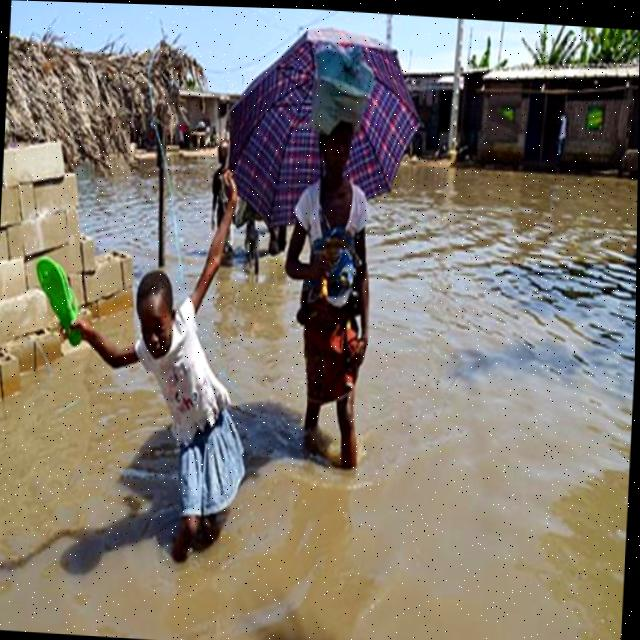civilian: (20, 144, 278, 584), (269, 95, 435, 538)
